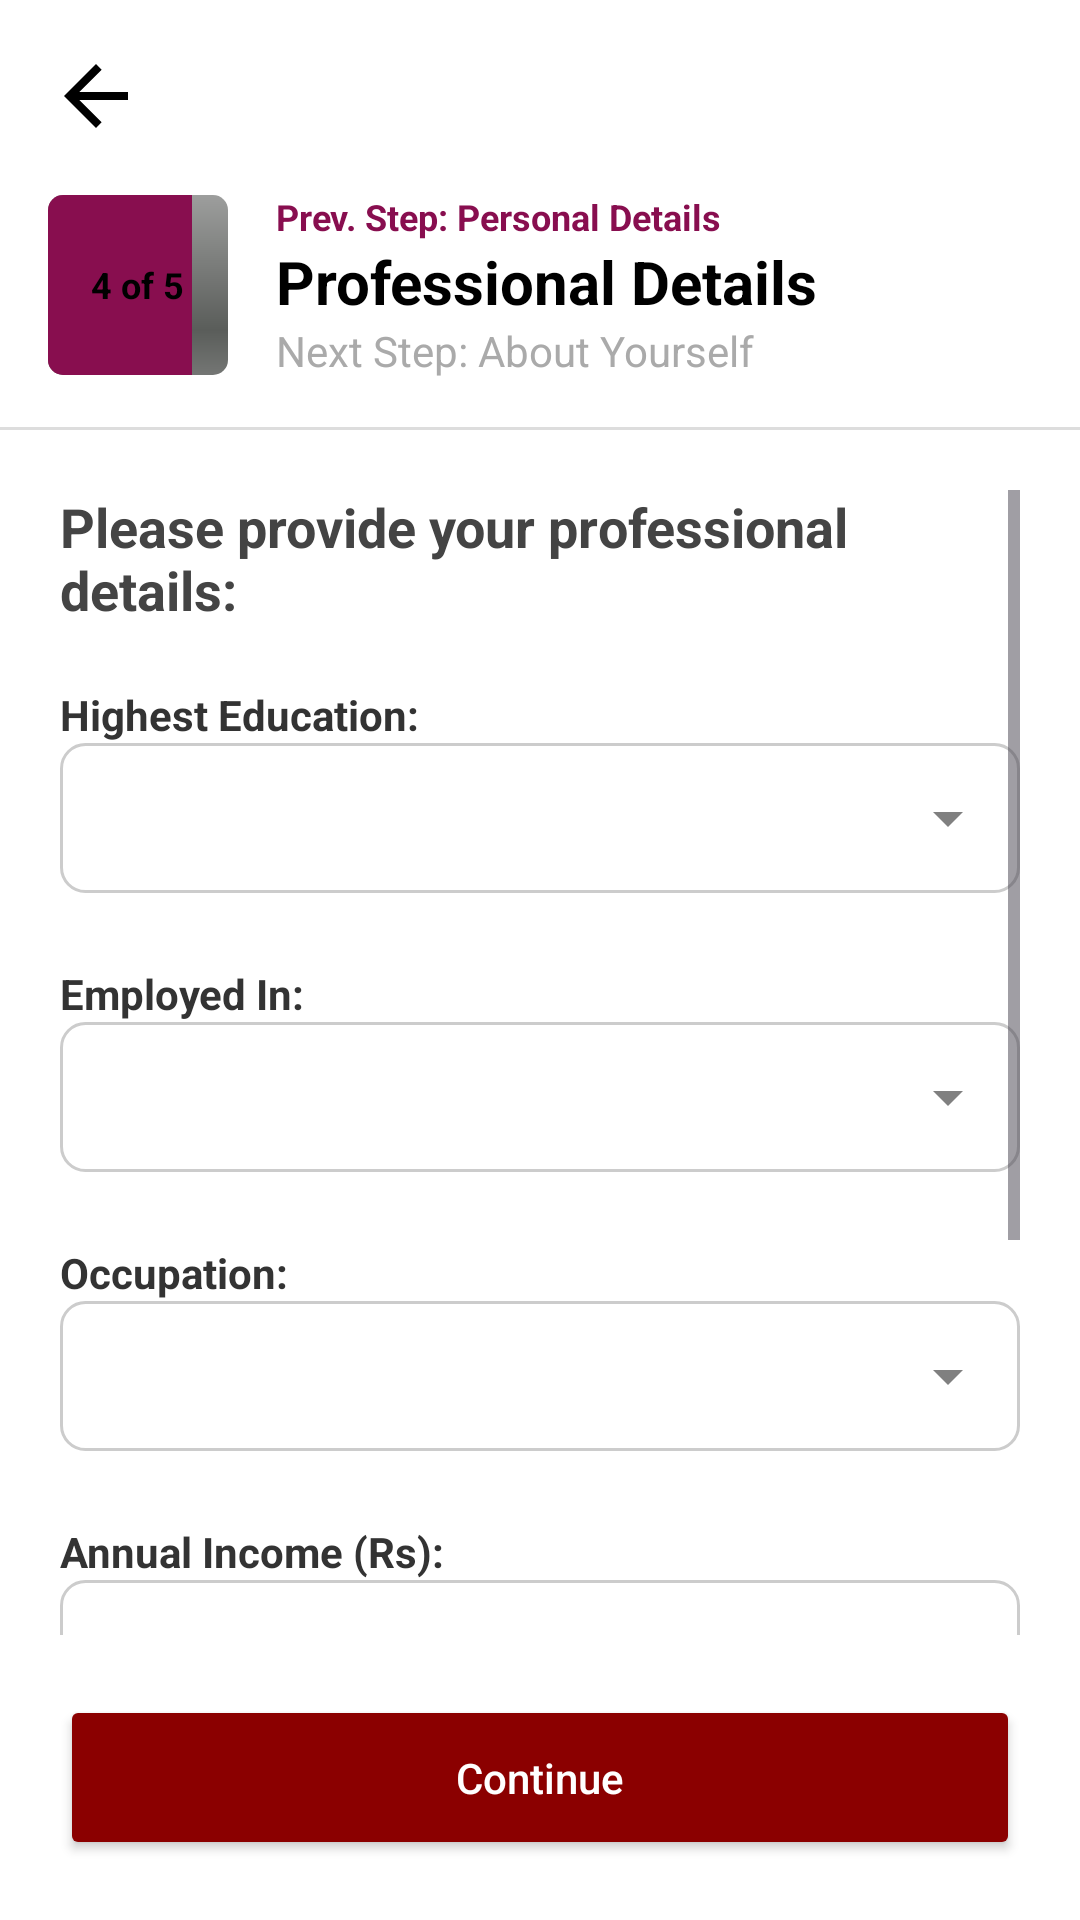

Icons on this 1080 x 1920 Android screen, each with the point to tap as point (x, y):
back: point (96, 96)
